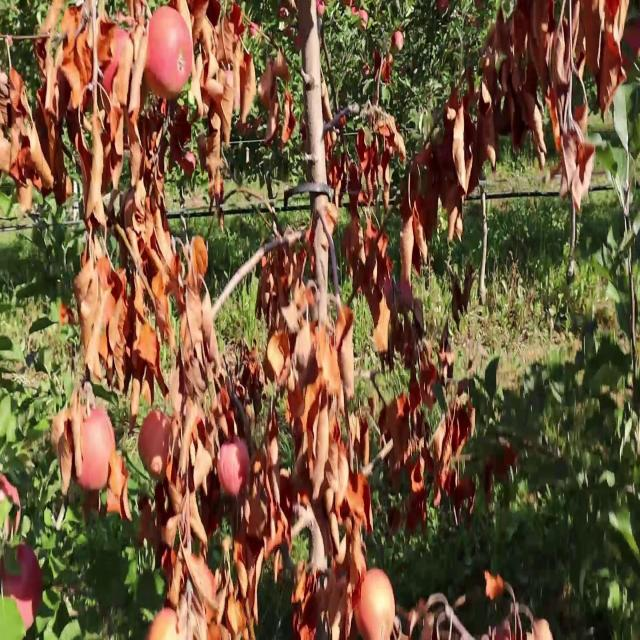apple: (145, 7, 192, 98), (0, 544, 42, 628), (2, 544, 42, 628), (78, 409, 115, 489), (354, 569, 395, 640), (35, 104, 66, 189), (51, 400, 88, 462), (138, 411, 170, 478), (146, 233, 180, 292), (106, 444, 131, 520), (218, 440, 250, 496), (106, 447, 130, 519), (104, 27, 129, 93), (596, 62, 625, 118), (104, 27, 129, 91), (345, 407, 370, 471), (410, 144, 438, 200), (409, 147, 434, 204), (415, 180, 439, 237), (0, 473, 21, 538), (529, 18, 551, 80), (380, 393, 410, 438), (266, 331, 290, 387), (551, 31, 571, 96), (342, 216, 365, 270), (414, 189, 439, 238), (201, 51, 224, 103), (51, 409, 74, 461), (76, 293, 98, 347), (256, 264, 278, 318), (485, 442, 516, 480), (60, 60, 84, 109), (74, 258, 99, 304), (374, 109, 401, 151), (0, 596, 26, 639), (109, 296, 130, 349), (621, 16, 640, 73), (621, 16, 640, 73), (188, 236, 208, 289), (74, 29, 92, 87), (216, 16, 236, 67), (405, 489, 428, 533), (352, 258, 376, 300), (218, 22, 240, 67), (74, 118, 91, 176), (435, 127, 455, 176), (84, 113, 104, 162), (57, 64, 75, 118), (356, 129, 378, 173), (530, 0, 555, 38), (454, 107, 476, 150), (60, 4, 81, 49), (98, 16, 115, 71), (259, 62, 278, 111), (581, 0, 604, 40), (98, 13, 115, 67), (98, 16, 115, 69), (61, 104, 81, 149), (492, 89, 511, 136), (495, 4, 514, 51), (520, 89, 541, 130), (452, 104, 465, 169), (170, 107, 191, 147), (259, 60, 276, 109), (481, 47, 498, 96), (480, 47, 498, 93), (478, 107, 496, 153), (190, 0, 209, 43), (364, 282, 382, 327), (0, 473, 20, 513), (348, 253, 368, 293), (440, 176, 460, 216), (171, 107, 191, 147), (240, 51, 256, 101), (96, 287, 115, 329), (220, 69, 235, 122), (298, 0, 316, 44), (482, 53, 498, 102), (132, 24, 149, 70), (41, 0, 64, 33), (512, 7, 528, 54), (511, 107, 528, 151), (601, 31, 621, 67), (511, 16, 528, 58), (495, 9, 511, 53), (585, 31, 601, 74), (278, 0, 296, 38), (512, 0, 531, 36), (531, 44, 549, 82), (495, 0, 514, 36), (420, 353, 438, 389), (374, 313, 390, 353), (54, 169, 72, 204), (572, 33, 586, 78), (578, 140, 595, 176), (484, 571, 505, 600), (462, 67, 476, 110), (272, 49, 290, 82), (522, 60, 538, 96), (465, 153, 479, 194), (496, 53, 511, 91), (478, 82, 492, 121), (420, 376, 436, 409), (82, 491, 100, 520), (189, 0, 209, 26), (472, 133, 486, 170), (230, 2, 245, 36), (409, 371, 421, 413), (621, 40, 635, 76), (0, 129, 11, 173), (511, 60, 526, 91), (9, 67, 24, 98), (392, 129, 406, 162), (126, 0, 145, 24), (169, 133, 182, 168), (502, 440, 518, 468), (324, 202, 338, 233), (381, 51, 394, 84), (574, 102, 589, 129), (571, 0, 580, 43), (206, 0, 220, 27), (181, 151, 196, 176), (106, 489, 121, 514), (378, 147, 390, 178), (80, 82, 92, 113), (446, 87, 461, 111), (466, 67, 476, 103), (59, 302, 75, 324), (484, 22, 496, 50), (390, 29, 405, 51), (35, 33, 49, 56), (80, 0, 91, 28), (605, 0, 620, 19), (436, 0, 450, 16), (358, 9, 369, 29), (248, 22, 261, 38), (445, 104, 456, 122), (516, 87, 525, 109), (294, 33, 304, 51), (374, 49, 381, 72), (561, 4, 569, 22), (316, 0, 326, 14), (350, 0, 359, 14), (362, 62, 371, 76), (88, 20, 92, 49), (88, 22, 92, 49)
